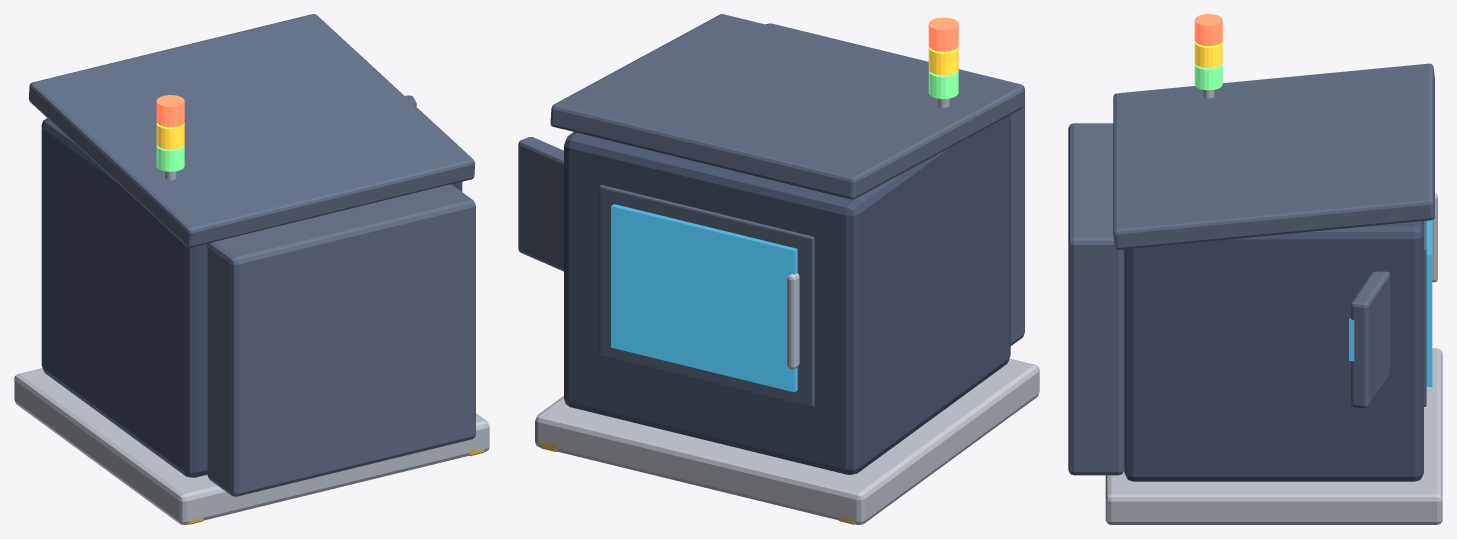
Rendered from cnc.glb.
The picture shows the model from 3 angles, left to right: view 1: azimuth 30°, elevation 25°; view 2: azimuth 150°, elevation 25°; view 3: azimuth 270°, elevation 25°; orthographic projection. The views are drawn at different scales.
Visible parts, largest first — view 1: CNC_Cabinet, CNC_TopCover, CNC_Body, CNC_Base, CNC_Andon_R, CNC_Andon_A, CNC_Andon_G; view 2: CNC_Body, CNC_TopCover, CNC_Window, CNC_Base, CNC_WinFrame, CNC_Pendant, CNC_Cabinet, CNC_Handle, CNC_Andon_R, CNC_Andon_A, CNC_Andon_G; view 3: CNC_Body, CNC_TopCover, CNC_Cabinet, CNC_Base, CNC_Pendant, CNC_Window, CNC_Andon_R, CNC_Andon_G, CNC_Andon_A, CNC_WinFrame, CNC_Handle.
Boxes of the visible parts, bbox=[...] form: CNC_Cabinet: bbox=[207, 184, 475, 496]; CNC_TopCover: bbox=[28, 14, 475, 247]; CNC_Body: bbox=[41, 118, 462, 477]; CNC_Base: bbox=[14, 368, 489, 524]; CNC_Andon_R: bbox=[156, 95, 184, 127]; CNC_Andon_A: bbox=[156, 123, 184, 149]; CNC_Andon_G: bbox=[156, 145, 184, 171]; CNC_Body: bbox=[564, 115, 1010, 474]; CNC_TopCover: bbox=[550, 14, 1024, 199]; CNC_Window: bbox=[611, 204, 797, 392]; CNC_Base: bbox=[535, 358, 1039, 524]; CNC_WinFrame: bbox=[599, 185, 814, 407]; CNC_Pendant: bbox=[518, 137, 563, 271]; CNC_Cabinet: bbox=[766, 23, 1024, 345]; CNC_Handle: bbox=[787, 273, 799, 369]; CNC_Andon_R: bbox=[928, 17, 958, 51]; CNC_Andon_A: bbox=[928, 47, 958, 75]; CNC_Andon_G: bbox=[928, 70, 958, 98]; CNC_Body: bbox=[1124, 221, 1423, 481]; CNC_TopCover: bbox=[1113, 63, 1434, 249]; CNC_Cabinet: bbox=[1068, 123, 1124, 475]; CNC_Base: bbox=[1105, 348, 1442, 524]; CNC_Pendant: bbox=[1350, 271, 1390, 408]; CNC_Window: bbox=[1426, 220, 1432, 386]; CNC_Andon_R: bbox=[1194, 14, 1222, 46]; CNC_Andon_G: bbox=[1194, 63, 1222, 90]; CNC_Andon_A: bbox=[1194, 41, 1222, 68]; CNC_WinFrame: bbox=[1424, 220, 1426, 406]; CNC_Handle: bbox=[1432, 193, 1437, 282].
Size of the model in its own units: 2.22 by 2.22 by 2.
